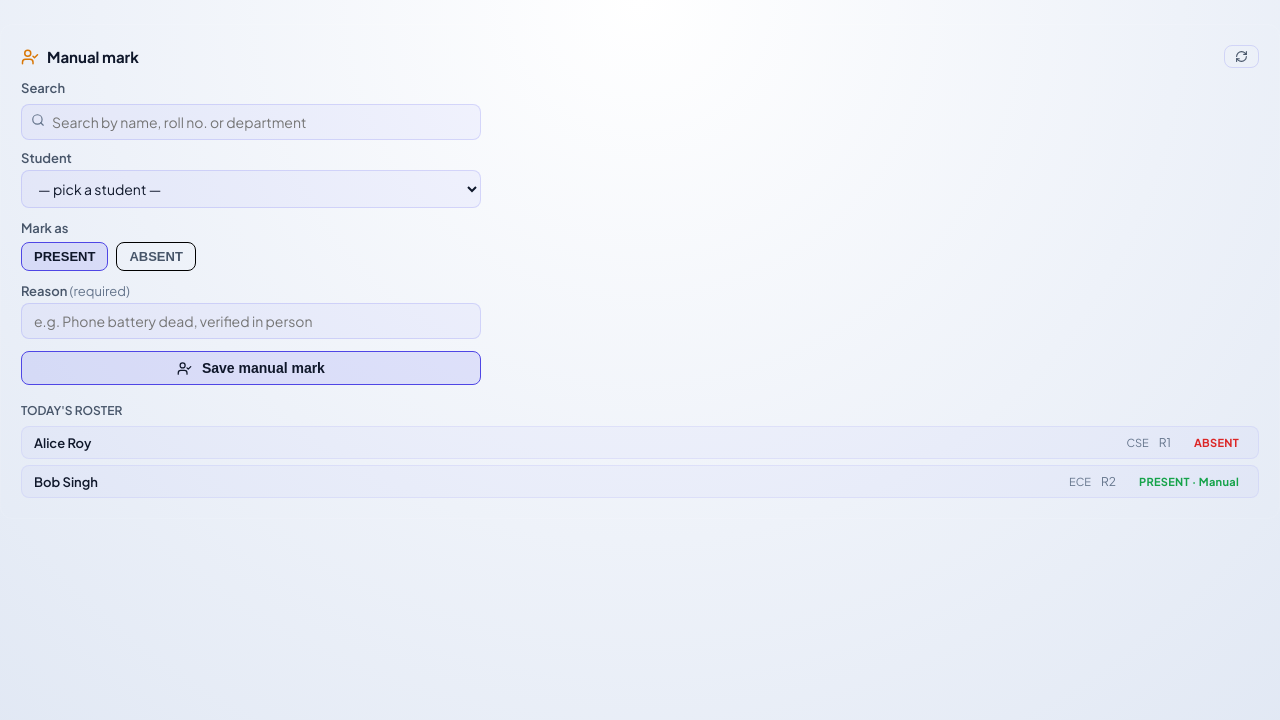
Scenario: ManualMarkSection › requires a reason before a manual mark can be saved
This screenshot has width=1280, height=720.
expect the text "Alice Roy" is shown: met, box [34,434,91,450]
Select "Alice Roy (R1) — ABSENT" in the dropdown labelled "Student". click: (251, 189)
box: [21,170,481,208]
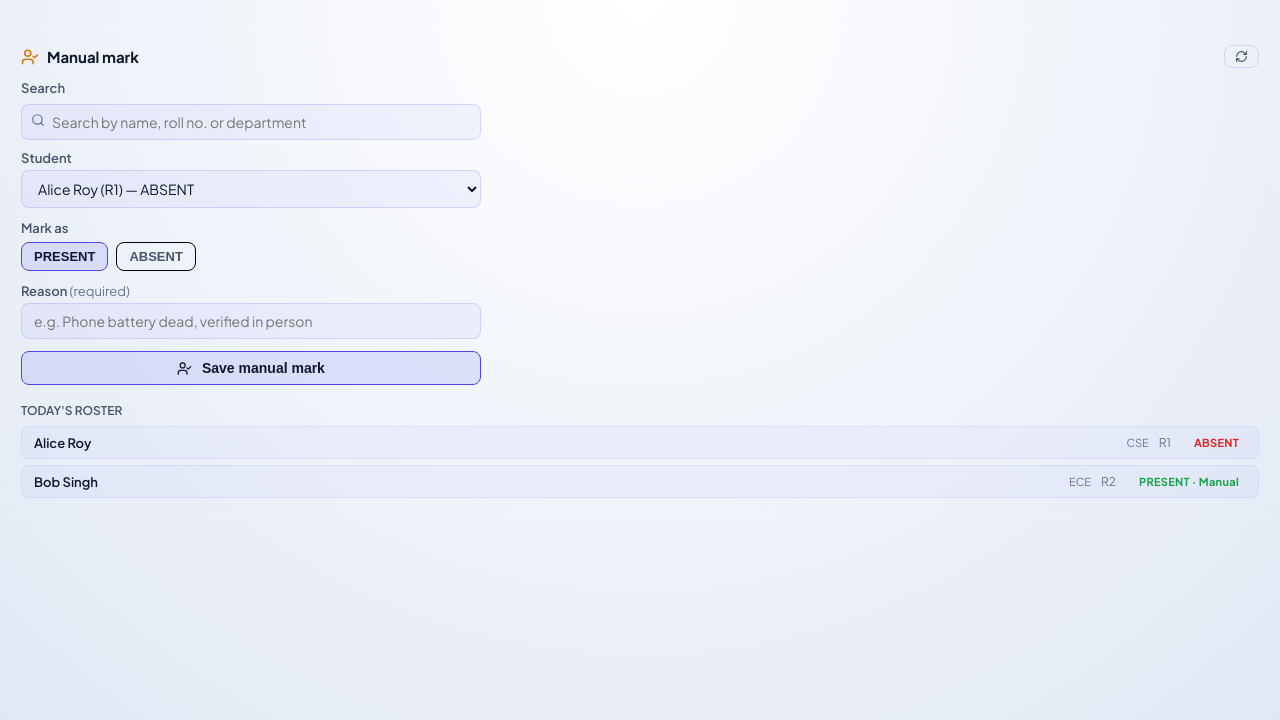
Click the button "Save manual mark". click: click(251, 368)
box: [21,351,481,385]
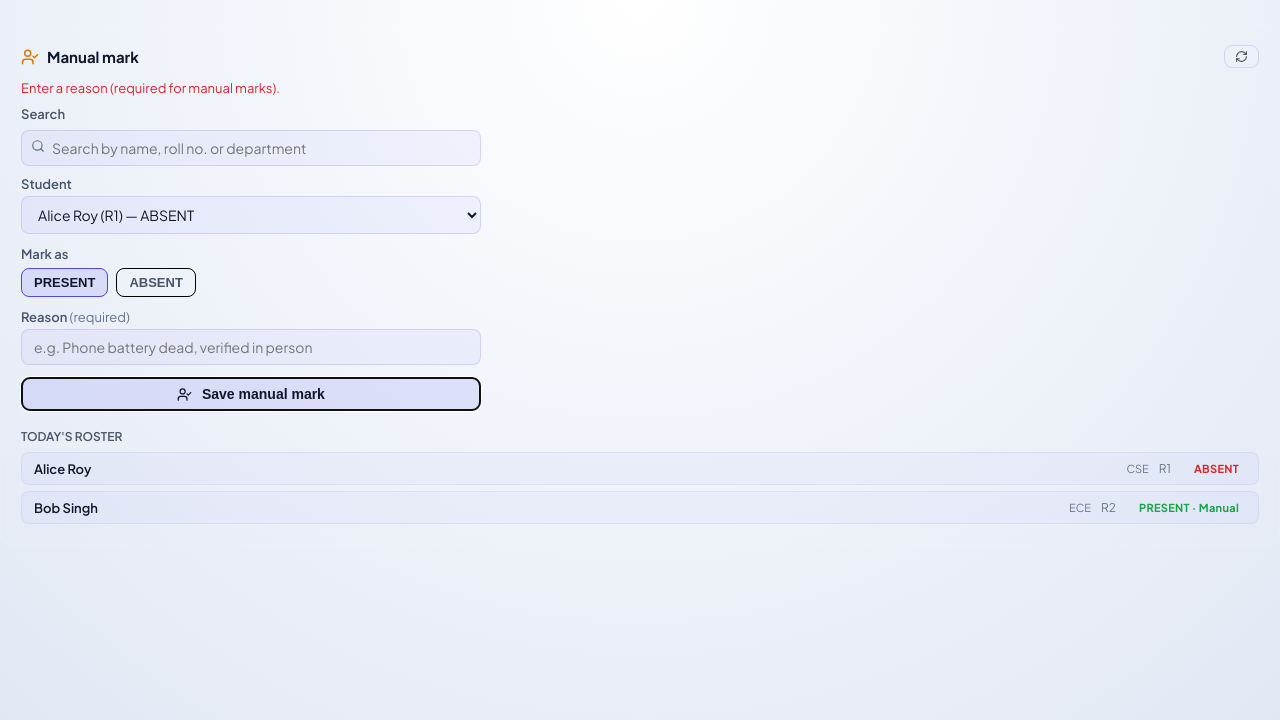
expect the message shows "Enter a reason": met, box [21,80,280,96]
